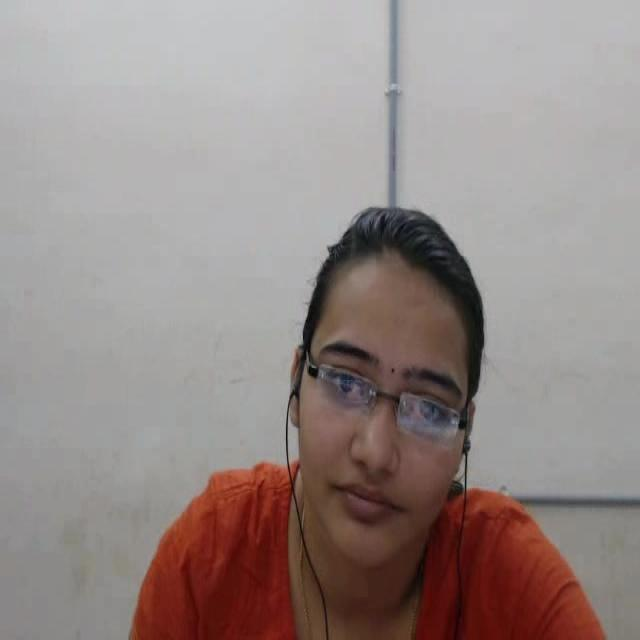Engaged: (262, 153, 530, 640)
